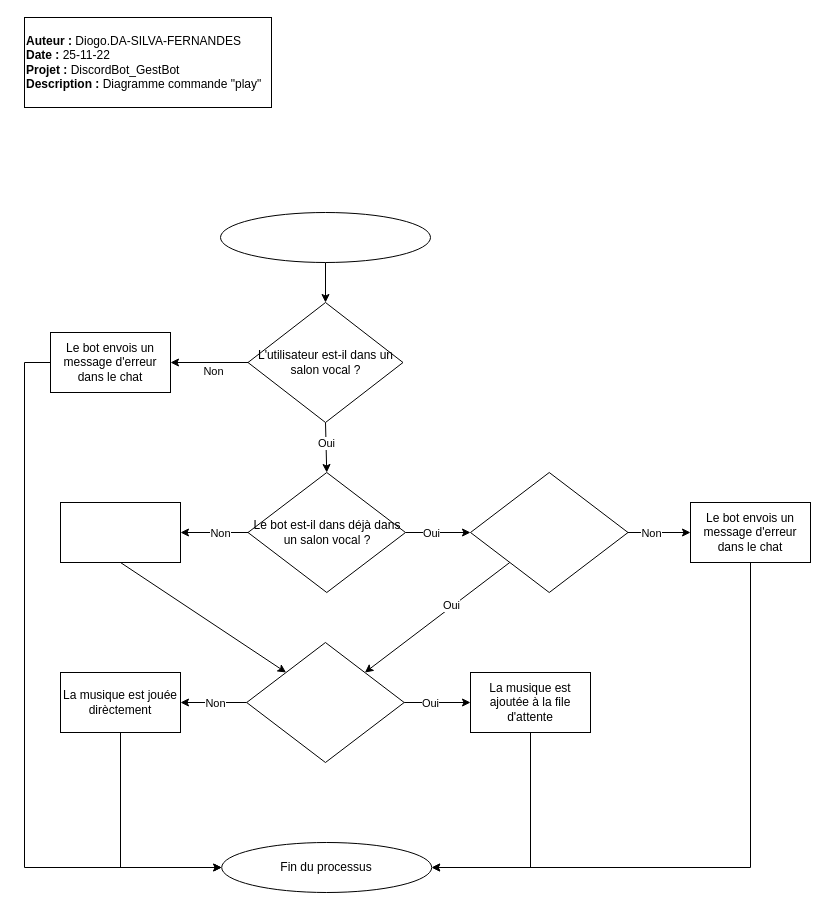
This 828x910 diagram has some shape labels left out. The centre of each missing label's shape, as x and y in pixels:
L'utilisateur est-il dans le meme salon que le bot ?: pixel 549 532
L'utilisateur tape la commande: pixel 325 237
Le bot joue-t-il déjà de la musique ?: pixel 325 702
Le bot se connecte au même salon vocal que l'utilisateur: pixel 120 532
